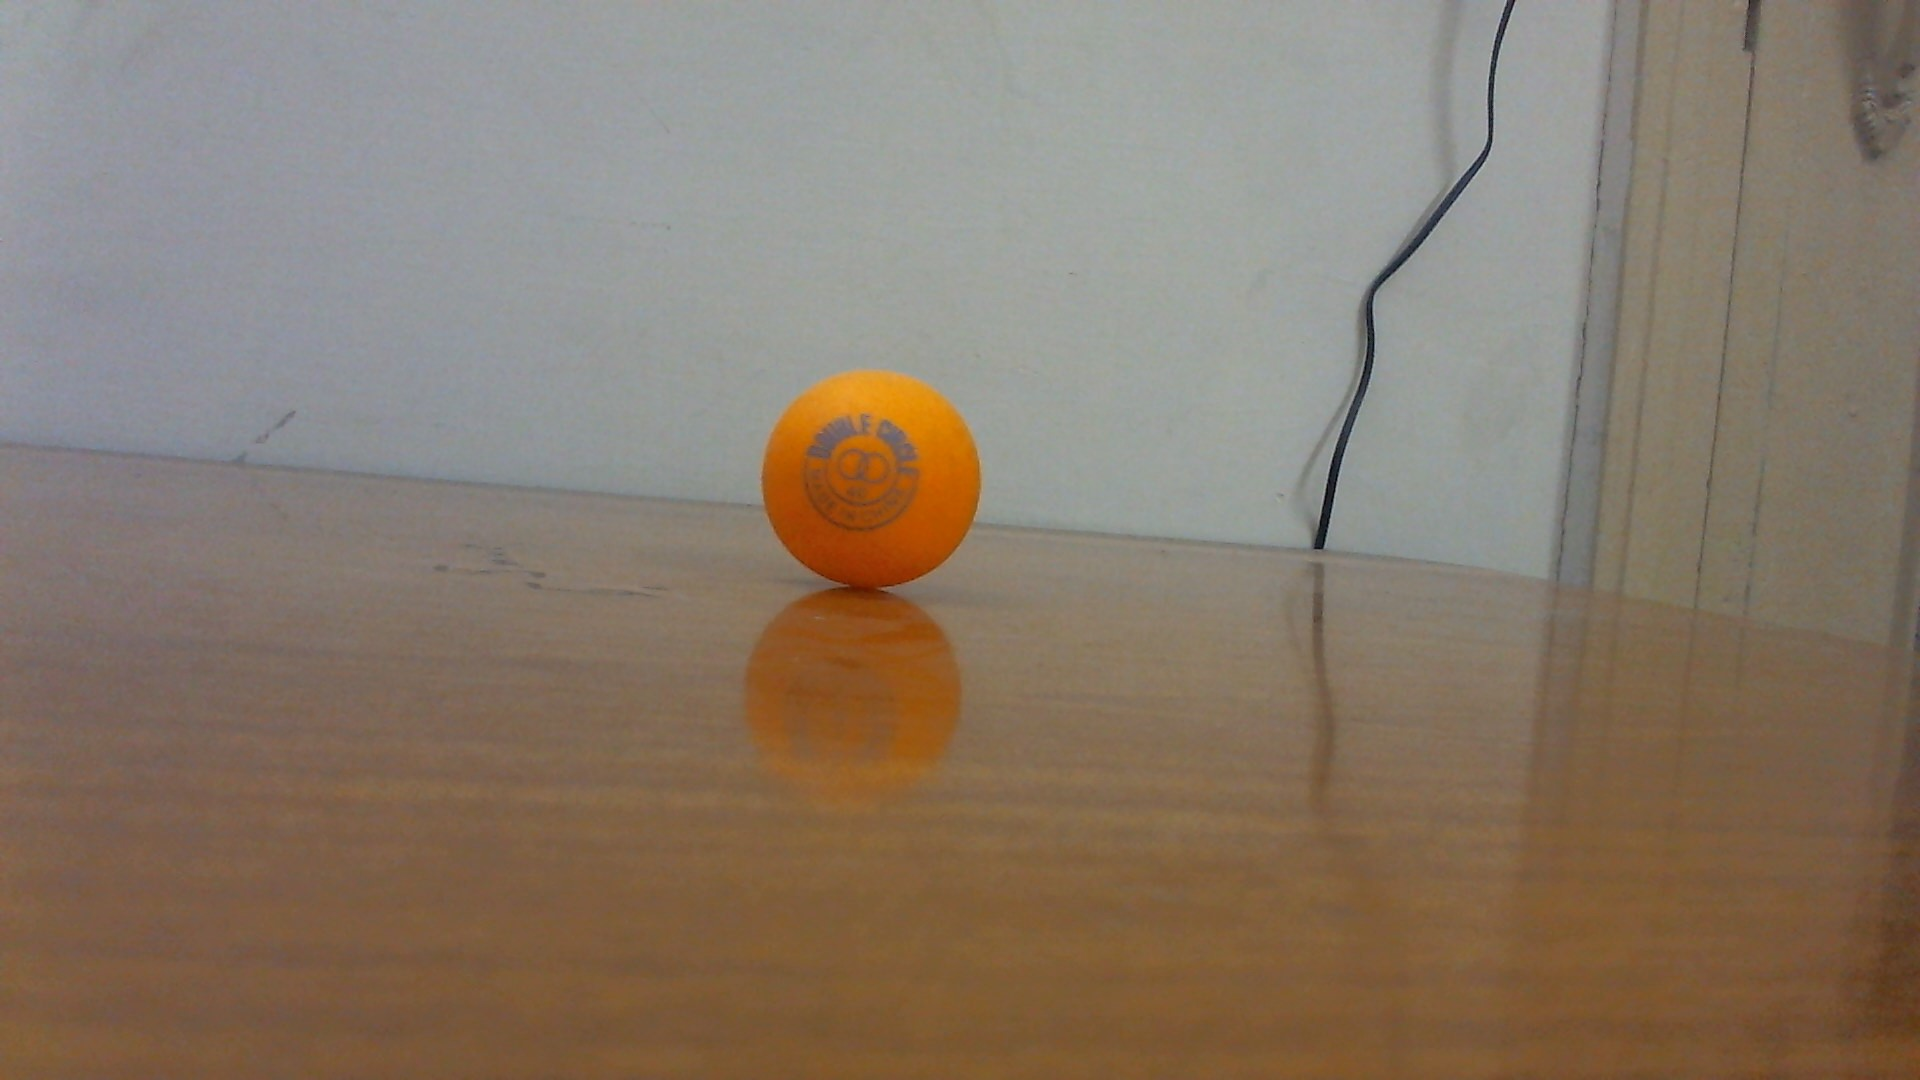ball: (758, 367, 978, 593)
